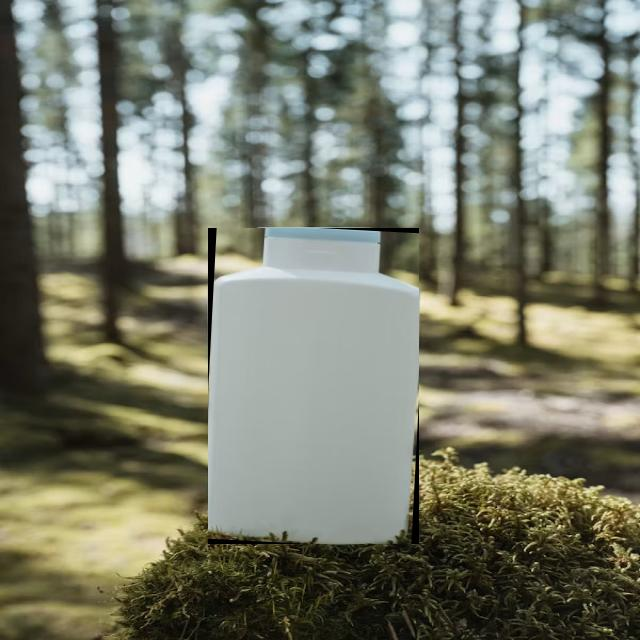Bottle: (208, 228, 419, 543)
